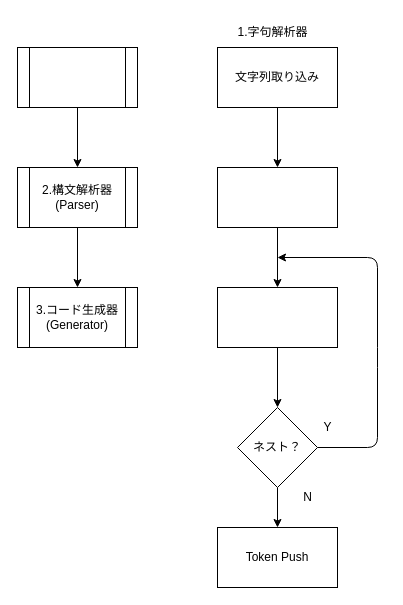
This 403x605 diagram has some shape labels left out. Here are the shapes that lost their labels. From the top down, the box of each, then its label:
(16, 46, 138, 108): 1.字句解析器 (Lexer)
(216, 166, 338, 228): 正規表現でパターン検知
(216, 286, 338, 348): Token生成
